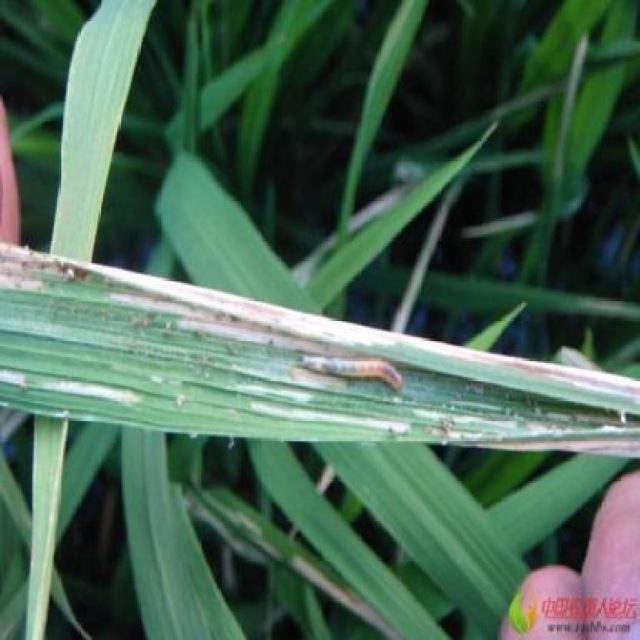leaf-folder: (295, 302, 422, 420)
